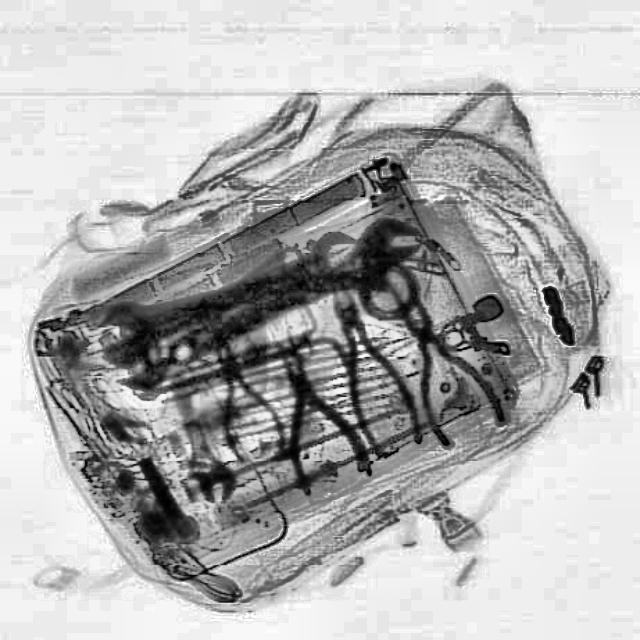Pliers: (366, 270, 508, 448), (306, 276, 428, 459), (248, 334, 376, 498), (192, 341, 292, 469)
Wrench: (150, 207, 438, 383), (82, 218, 374, 372), (152, 366, 242, 510)
